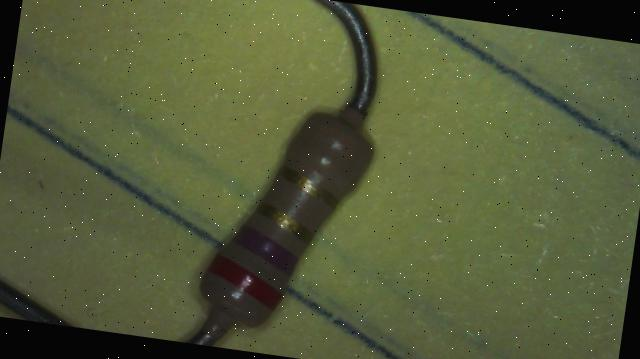gold: (272, 166, 344, 212), (247, 200, 319, 244)
red: (202, 252, 288, 312)
resistor: (171, 76, 400, 344)
violet: (230, 222, 303, 273)
